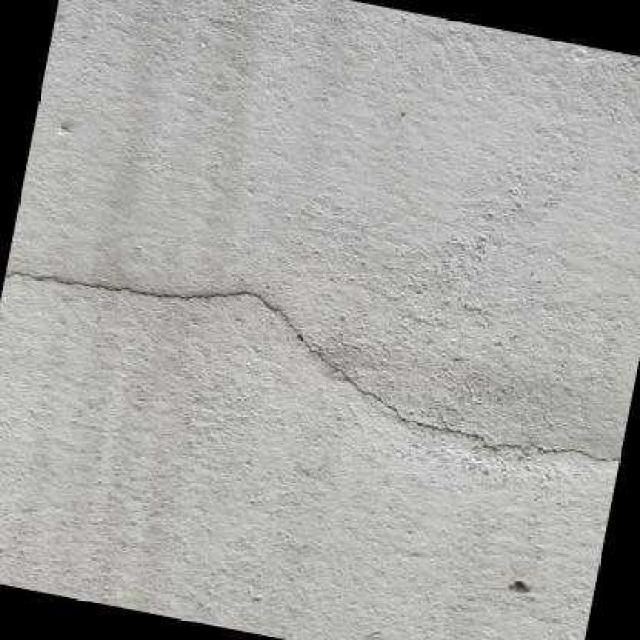D00: (3, 272, 619, 460)
